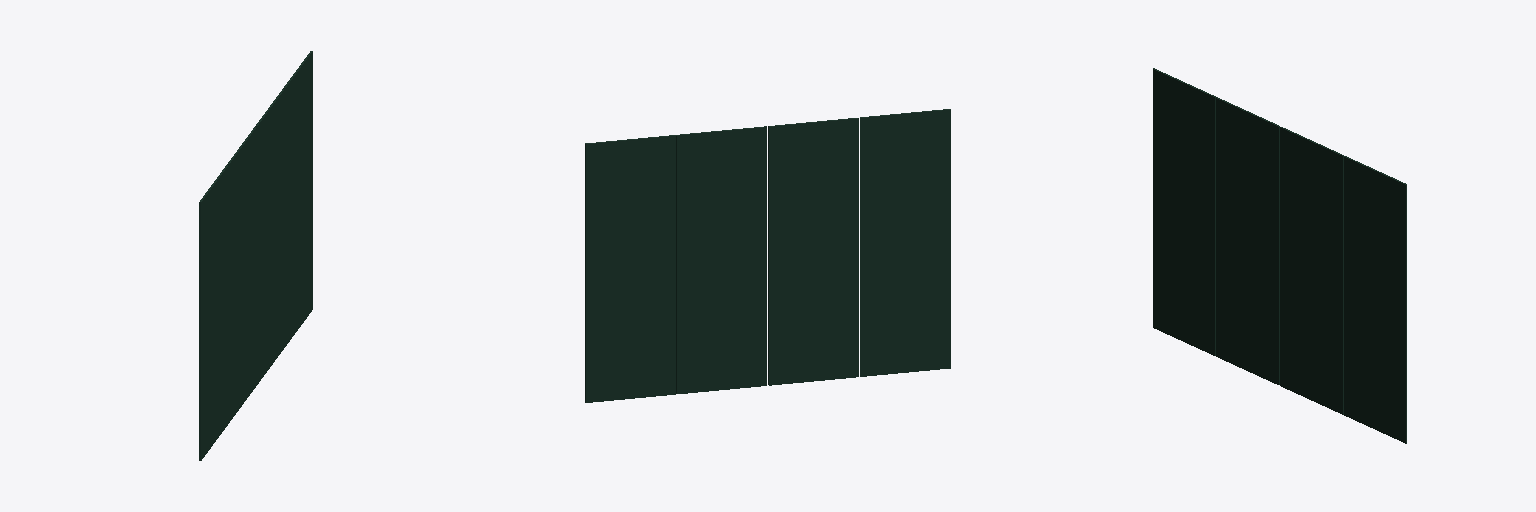
The model's file is puertavidrio8.obj.
3 views of the same model, side by side, from view 1: azimuth 30°, elevation 25°; view 2: azimuth 150°, elevation 25°; view 3: azimuth 270°, elevation 25° (orthographic).
Visible parts, largest first — view 1: glass_door01_obj8:Object004 pasted__pasted__pasted__pasted__grou; view 2: glass_door01_obj8:Object004 pasted__pasted__pasted__pasted__grou; view 3: glass_door01_obj8:Object004 pasted__pasted__pasted__pasted__grou.
Boxes of the visible parts, x1,y1,x2,y2 form: glass_door01_obj8:Object004 pasted__pasted__pasted__pasted__grou: [199, 51, 312, 460]; glass_door01_obj8:Object004 pasted__pasted__pasted__pasted__grou: [585, 109, 950, 402]; glass_door01_obj8:Object004 pasted__pasted__pasted__pasted__grou: [1153, 68, 1406, 443].
Size of the model in its own units: 2.68 by 2.77 by 2.47.